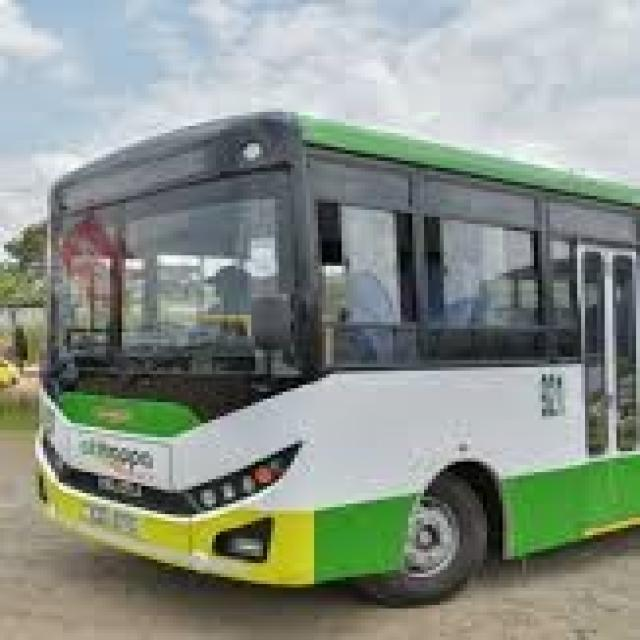bus: (22, 72, 636, 636)
